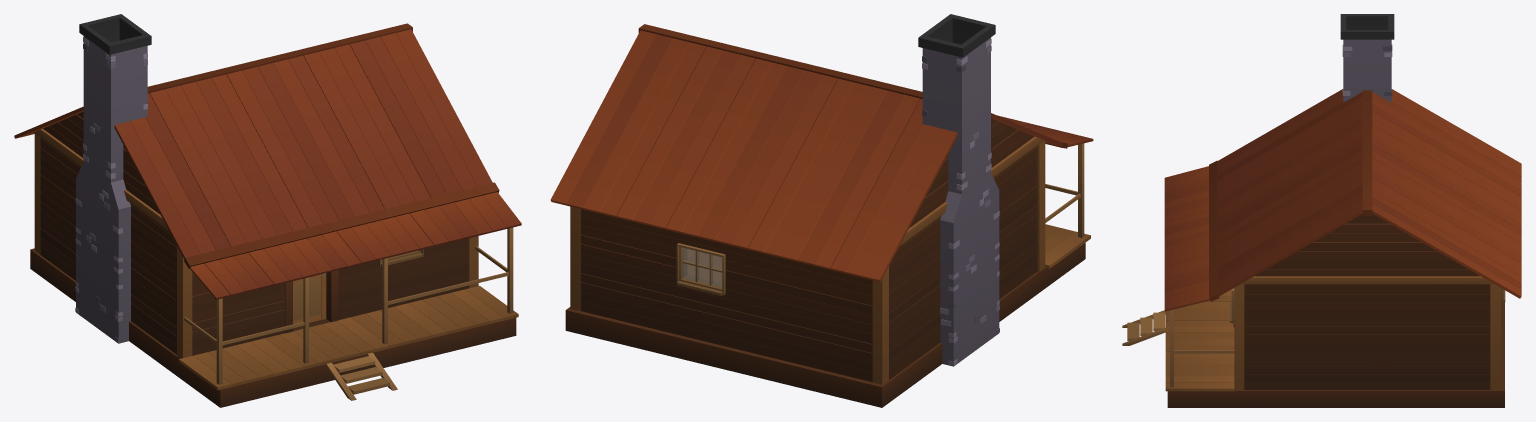
The model's file is Bld_Wooden_Cabin_01.obj.
The picture shows the model from 3 angles, left to right: view 1: azimuth 30°, elevation 25°; view 2: azimuth 150°, elevation 25°; view 3: azimuth 270°, elevation 25°; orthographic projection. The views are drawn at different scales.
Parts seen in each view (by area): view 1: Bld_Wooden_Cabin_01, Bld_Wooden_Cabin_Door_01; view 2: Bld_Wooden_Cabin_01, (_ignore)_Bld_Wooden_Cabin_Windows_01; view 3: Bld_Wooden_Cabin_01.
Boxes of the visible parts, x1=… form: Bld_Wooden_Cabin_01: x1=14, y1=14, x2=521, y2=407; Bld_Wooden_Cabin_Door_01: x1=293, y1=273, x2=326, y2=324; Bld_Wooden_Cabin_01: x1=550, y1=14, x2=1093, y2=407; (_ignore)_Bld_Wooden_Cabin_Windows_01: x1=683, y1=248, x2=722, y2=287; Bld_Wooden_Cabin_01: x1=1122, y1=14, x2=1521, y2=407.
Bounding box in the file's own units: 8.22 × 7.3 × 10.15.
2 materials, 1 textured.
